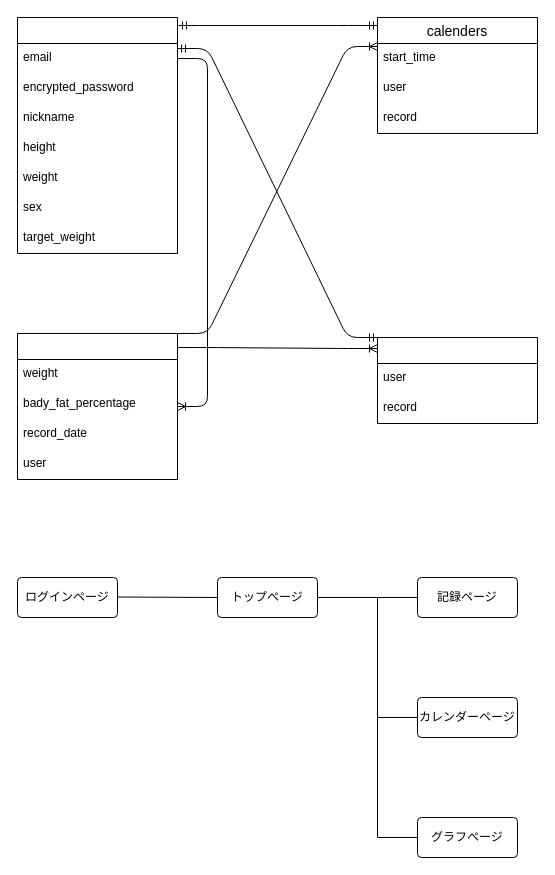
The diagram is 555 pixels wide and 875 high, and some of its shapes have lost their labels. The shapes that lost their labels are listed below. From the top down, each one's box as (x1, y1, x2, y2) in pixels, then its label:
(16, 16, 178, 254): users
(376, 336, 538, 424): graphs
(16, 332, 178, 480): records
